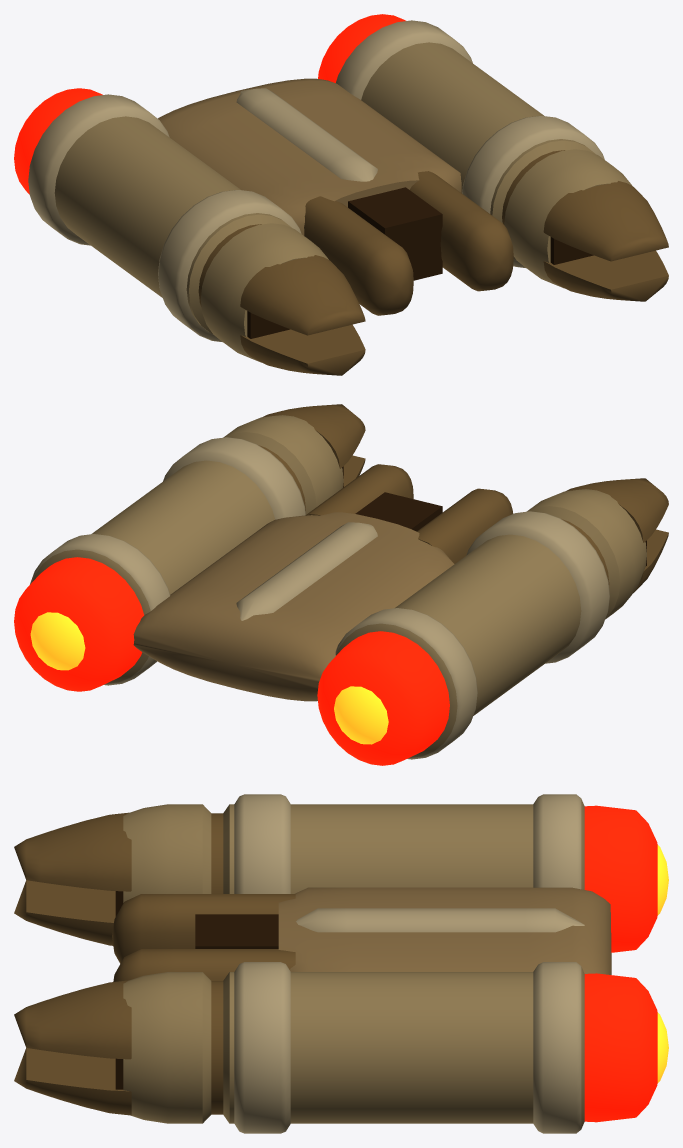
Rendered from twin_tube.glb.
The picture shows the model from 3 angles, top to bottom: view 1: azimuth 30°, elevation 25°; view 2: azimuth 150°, elevation 25°; view 3: azimuth 270°, elevation 25°; orthographic projection. The views are drawn at different scales.
Visible parts, largest first — view 1: tube-1, tube1, middle, leg-1, prong11, prong-11, leg1, notch, prong1-1, prong-1-1, ridge1, glow-1 (+3 smaller); view 2: tube-1, middle, tube1, glow-1, glow1, ridge1, leg-1, leg1, prong11, prong-11, glow_core-1, glow_core1 (+2 smaller); view 3: tube1, tube-1, middle, glow1, glow-1, prong-11, prong11, ridge1, leg-1, prong1-1, prong-1-1, leg1 (+3 smaller).
Part boxes in pixels (<box>): tube-1: <box>28,94,328,362</box>; tube1: <box>336,20,632,288</box>; middle: <box>158,78,461,235</box>; leg-1: <box>304,196,413,315</box>; prong11: <box>543,181,668,261</box>; prong-11: <box>240,255,365,335</box>; leg1: <box>410,171,513,291</box>; notch: <box>348,187,442,280</box>; prong1-1: <box>543,250,668,301</box>; prong-1-1: <box>240,324,365,375</box>; ridge1: <box>236,88,377,181</box>; glow-1: <box>14,88,102,194</box>; tube-1: <box>335,489,646,759</box>; middle: <box>133,512,454,701</box>; tube1: <box>30,415,343,685</box>; glow-1: <box>317,631,449,765</box>; glow1: <box>14,557,144,691</box>; ridge1: <box>236,522,377,620</box>; leg-1: <box>417,488,513,563</box>; leg1: <box>305,464,413,515</box>; prong11: <box>262,404,365,468</box>; prong-11: <box>566,478,668,542</box>; glow_core-1: <box>334,686,388,744</box>; glow_core1: <box>30,612,85,670</box>; tube1: <box>123,962,584,1133</box>; tube-1: <box>123,794,584,902</box>; middle: <box>278,887,611,974</box>; glow1: <box>584,973,657,1122</box>; glow-1: <box>584,805,657,952</box>; prong-11: <box>14,812,131,891</box>; prong11: <box>14,980,131,1059</box>; ridge1: <box>296,908,584,932</box>; leg-1: <box>112,894,295,963</box>; prong1-1: <box>14,1048,131,1115</box>; prong-1-1: <box>14,880,115,945</box>; leg1: <box>113,949,295,981</box>.
Size of the model in its own units: 11.6 by 3.5 by 13.37.
